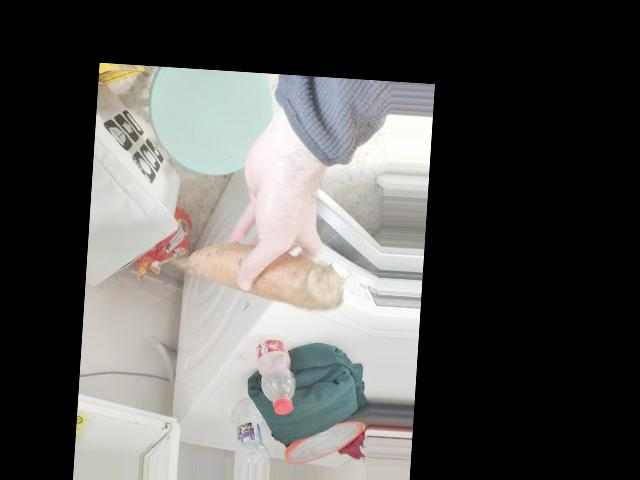sweet_potato: (178, 246, 346, 299)
